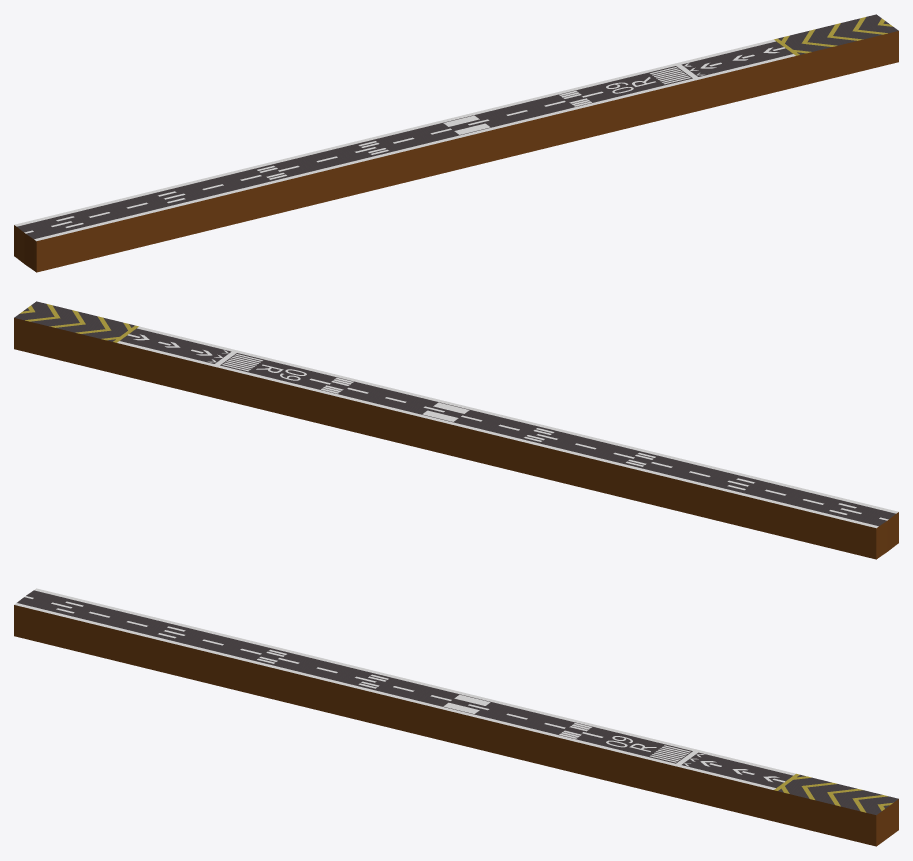
File: runway.glb
The picture shows the model from 3 angles, top to bottom: view 1: azimuth 30°, elevation 25°; view 2: azimuth 150°, elevation 25°; view 3: azimuth 330°, elevation 25°; orthographic projection.
Visible parts, largest first — view 1: Sketchup; view 2: Sketchup; view 3: Sketchup.
Part boxes in pixels (x1=…): Sketchup: x1=14, y1=14, x2=898, y2=272; Sketchup: x1=14, y1=301, x2=898, y2=559; Sketchup: x1=14, y1=588, x2=898, y2=846.
Size of what is drawn, in the model's own units: 3050 by 106 by 138.
5 materials, 4 textured.
